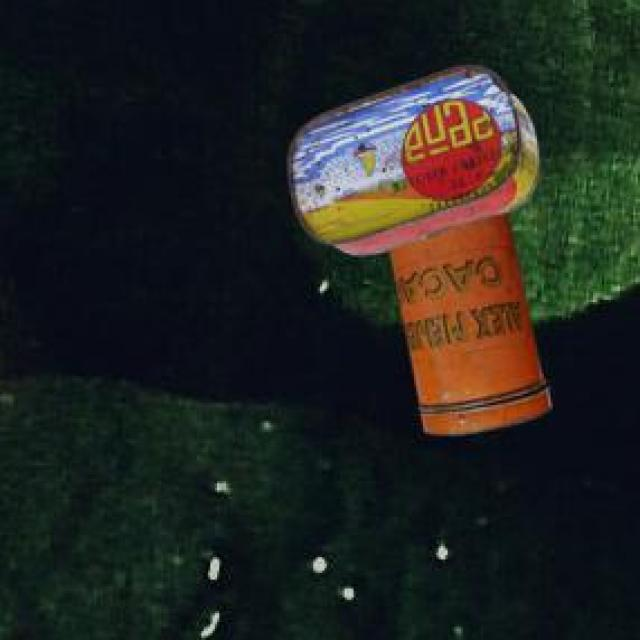logam: (285, 62, 536, 252), (386, 209, 547, 431)
